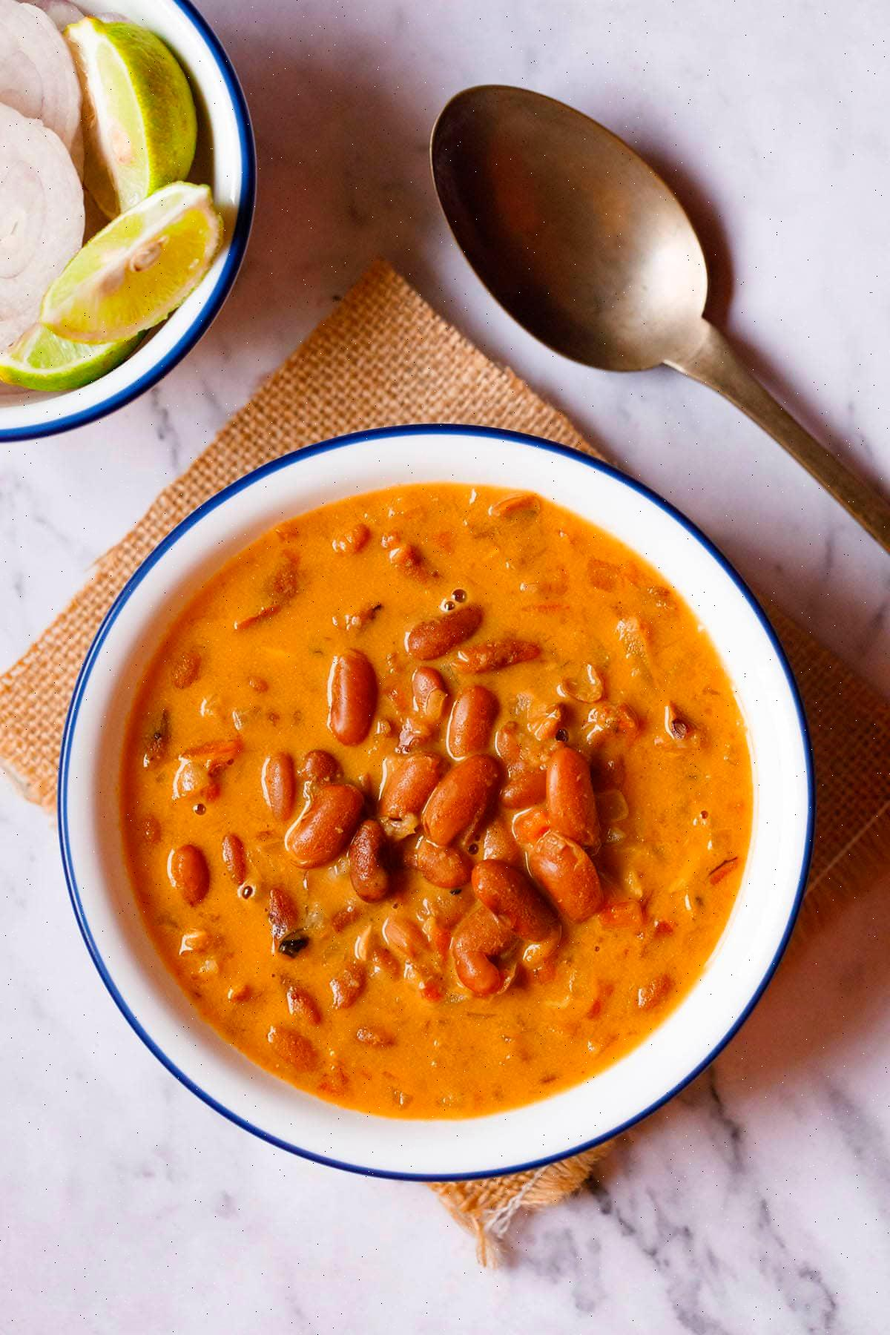rajma: (96, 497, 846, 1168)
